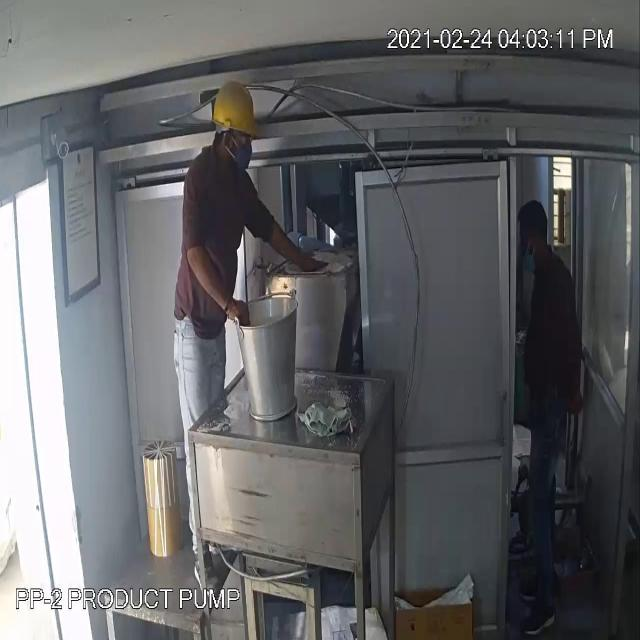helmet: (211, 83, 258, 136)
